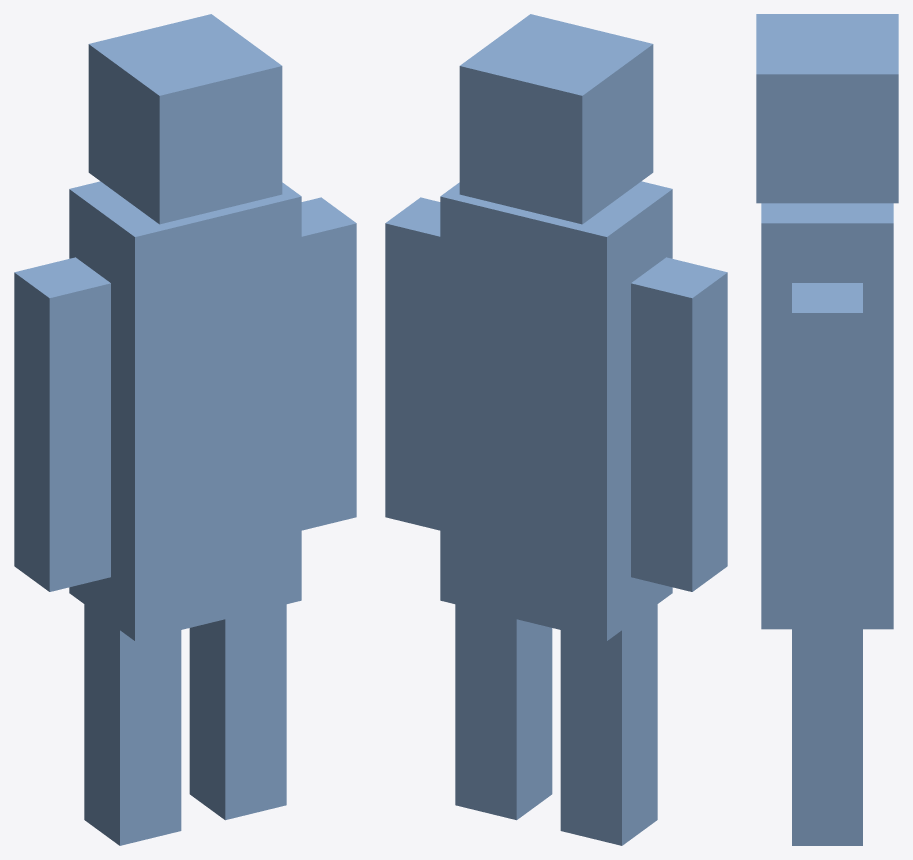
The model's file is Idle.glb.
3 renders of one model, left to right at view 1: azimuth 30°, elevation 25°; view 2: azimuth 150°, elevation 25°; view 3: azimuth 270°, elevation 25°, orthographic.
Visible parts, largest first — view 1: filler_Idle; view 2: filler_Idle; view 3: filler_Idle.
Part boxes in pixels (<box>): filler_Idle: <box>14,14,356,845</box>; filler_Idle: <box>385,14,727,845</box>; filler_Idle: <box>756,14,898,845</box>.
Size of the model in its own units: 0.7 by 1.65 by 0.28.
